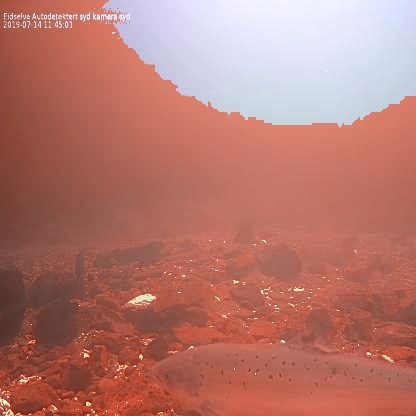salmon: (150, 318, 416, 416)
